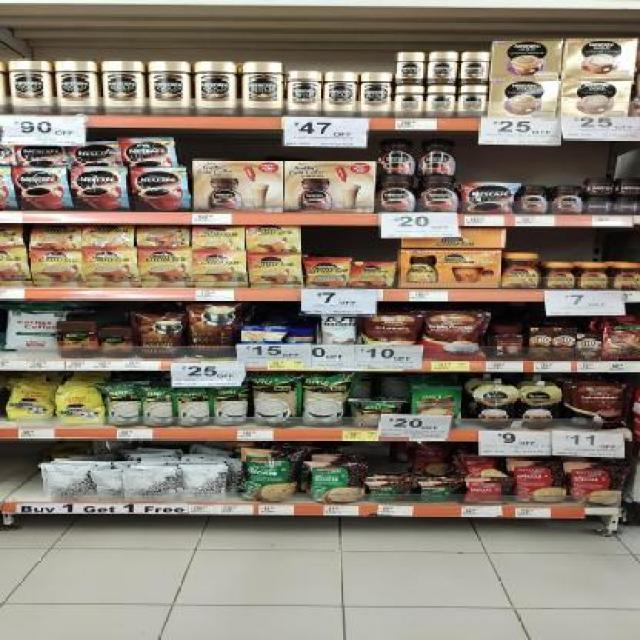Coffee: (9, 60, 53, 114), (133, 169, 185, 211), (244, 62, 282, 118), (18, 169, 68, 211), (58, 61, 96, 115), (105, 61, 143, 115), (152, 61, 190, 115), (198, 62, 236, 116), (76, 169, 124, 211), (143, 249, 191, 287), (86, 250, 136, 286), (34, 251, 80, 287), (252, 254, 300, 288), (196, 253, 243, 287), (466, 183, 512, 215), (324, 72, 355, 118), (361, 73, 392, 119), (123, 139, 174, 166), (420, 176, 458, 212), (290, 71, 319, 117), (249, 225, 297, 251), (504, 253, 538, 289), (380, 176, 413, 213), (421, 139, 454, 175), (307, 259, 349, 287), (195, 225, 243, 249), (381, 138, 413, 174), (33, 224, 79, 248), (86, 224, 132, 247), (517, 186, 548, 215), (397, 85, 424, 118), (74, 146, 118, 166), (18, 145, 64, 164), (397, 52, 424, 84), (460, 85, 487, 117), (430, 52, 456, 84), (462, 52, 488, 84), (428, 85, 454, 117), (554, 186, 581, 214), (548, 263, 575, 289), (581, 263, 607, 289), (615, 263, 639, 289), (586, 197, 614, 215), (587, 179, 614, 196), (616, 196, 639, 214), (617, 177, 639, 195)
